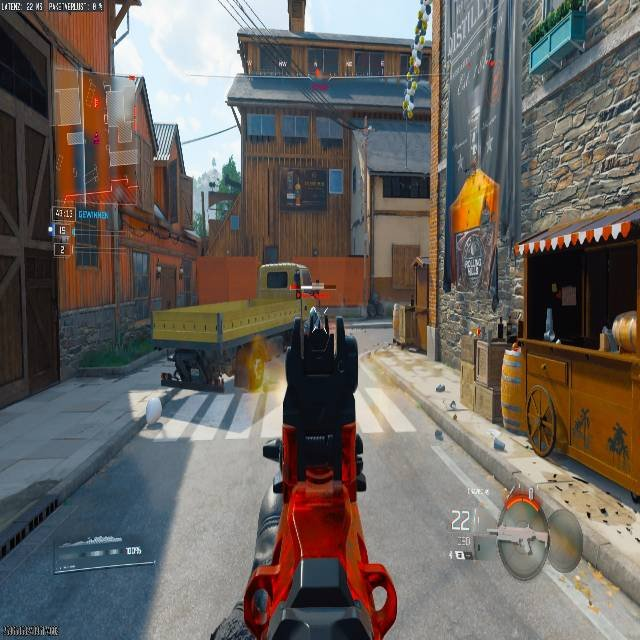player: (305, 298, 327, 329)
